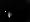person: (7, 8, 15, 20)
